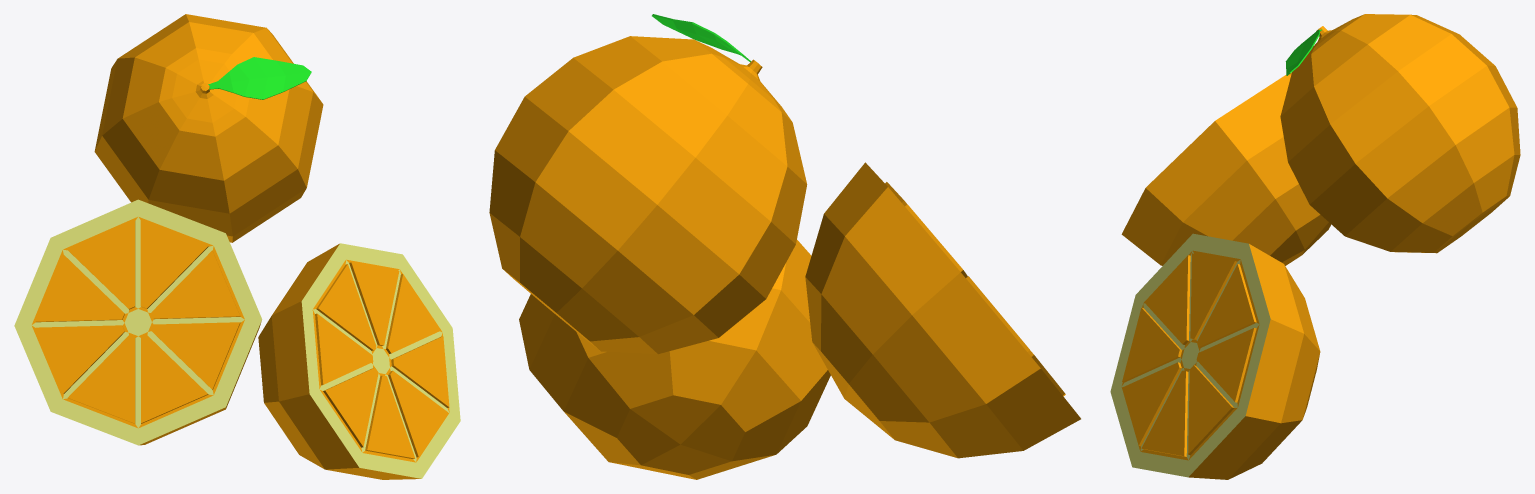
File: orange_for_export.fbx
3 views of the same model, side by side, from view 1: azimuth 30°, elevation 25°; view 2: azimuth 150°, elevation 25°; view 3: azimuth 270°, elevation 25° (orthographic). The views are drawn at different scales.
Parts seen in each view (by area): view 1: HOrange, Orange, HOrange.001; view 2: Orange, HOrange, HOrange.001; view 3: Orange, HOrange.001, HOrange.
Part boxes in pixels (box(x1,y1,x2,y2)): HOrange: box(14, 199, 262, 445); Orange: box(94, 14, 323, 242); HOrange.001: box(258, 243, 460, 479); Orange: box(489, 14, 807, 354); HOrange: box(805, 162, 1080, 458); HOrange.001: box(519, 240, 830, 479); Orange: box(1280, 14, 1520, 253); HOrange.001: box(1110, 233, 1320, 479); HOrange: box(1121, 72, 1331, 265).
Size of the model in its own units: 16.5 by 15.15 by 13.59.
